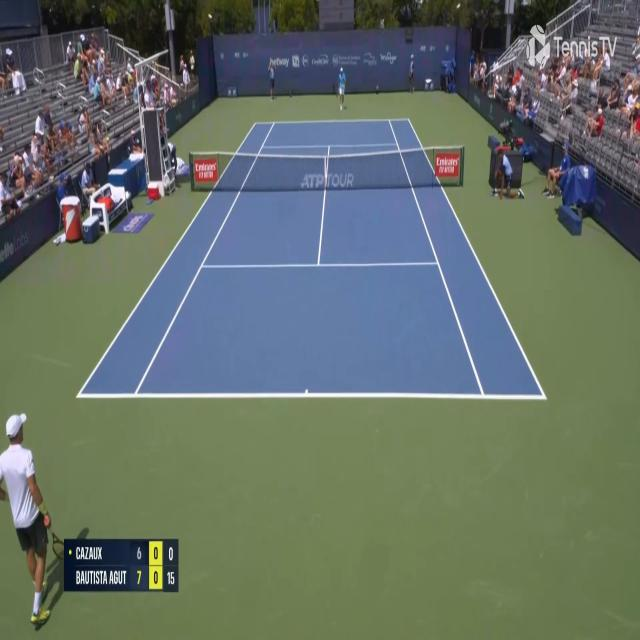tennis-player: (3, 407, 66, 630), (334, 64, 347, 111)
